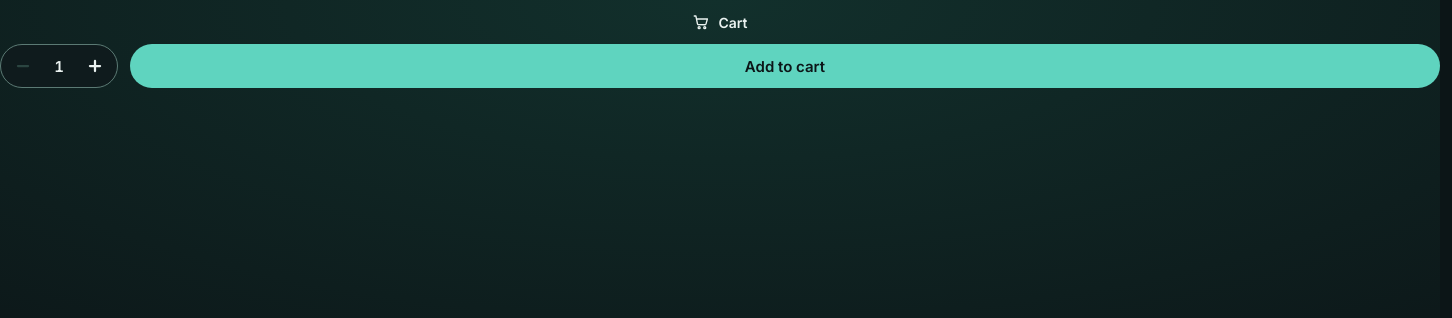
it: AddToCart when signed in › limits the quantity to the stock
This screenshot has width=1452, height=318.
Step 1. Click the button named "Increase quantity" → (95, 66), box [77,48,113,84]
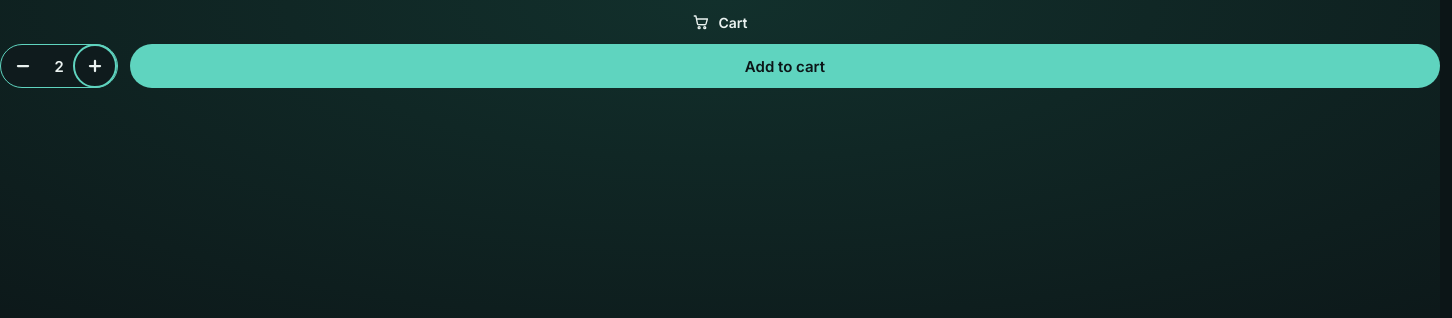
Step 2. Click the button named "Increase quantity" → (95, 66), box [77,48,113,84]
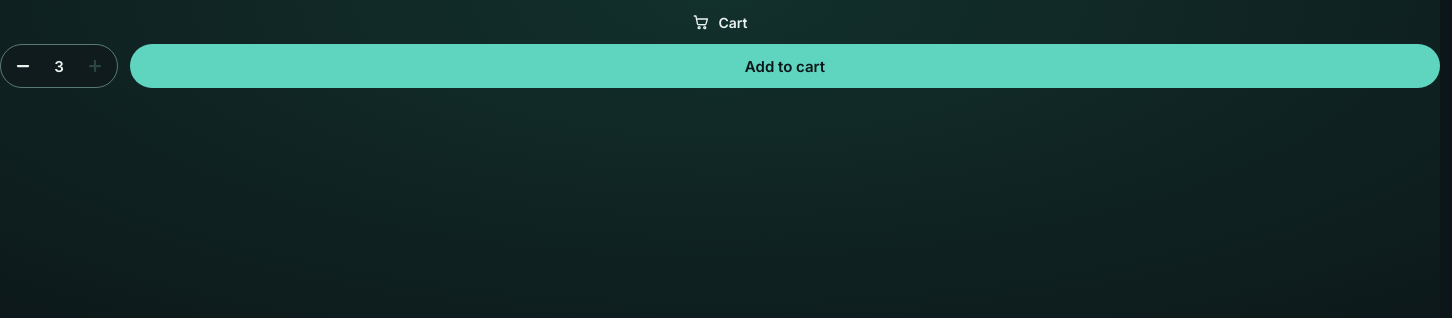
Result: the number field named "Quantity" holds "3" at [41,56,77,76]
Result: the button named "Increase quantity" is disabled at [77,48,113,84]
